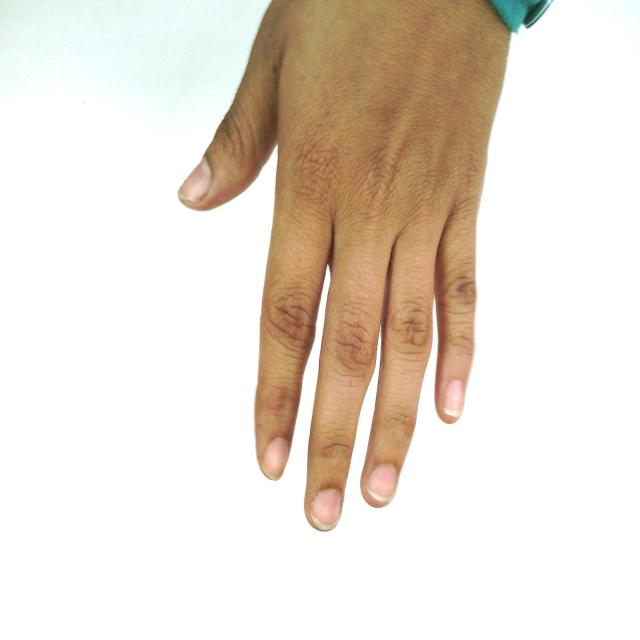hand: (176, 76, 488, 514)
